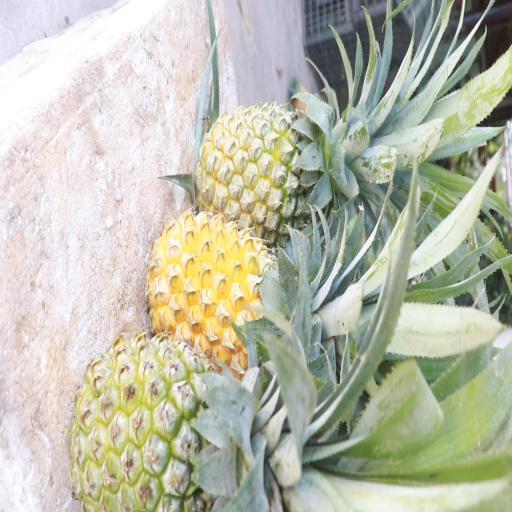------------------------------: (76, 330, 250, 512), (199, 93, 335, 236)
Pineapple - v8 v1: (146, 204, 304, 360)
